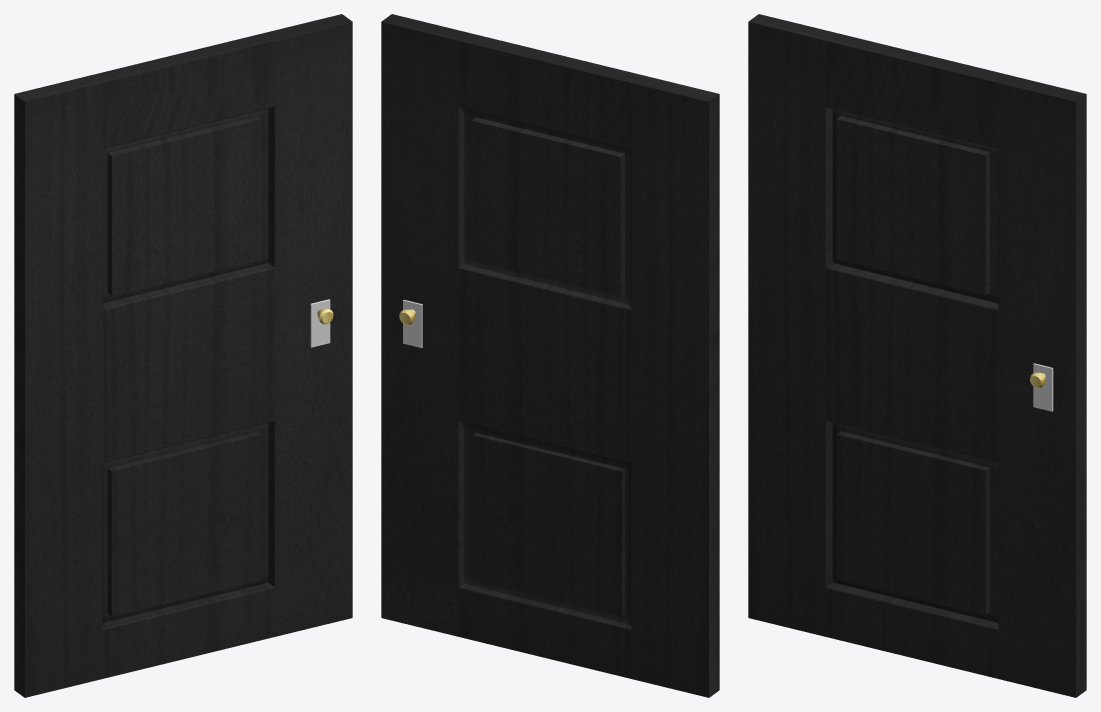
File: Door.fbx
3 views of the same model, side by side, from view 1: azimuth 30°, elevation 25°; view 2: azimuth 150°, elevation 25°; view 3: azimuth 330°, elevation 25° (orthographic).
Parts seen in each view (by area): view 1: polySurface16; view 2: polySurface16; view 3: polySurface16.
Part boxes in pixels (<box>): polySurface16: <box>14,14,352,697</box>; polySurface16: <box>381,14,719,697</box>; polySurface16: <box>748,14,1086,697</box>.
Size of the model in its own units: 2.41 by 4.18 by 0.3467.
3 materials, 2 textured.
